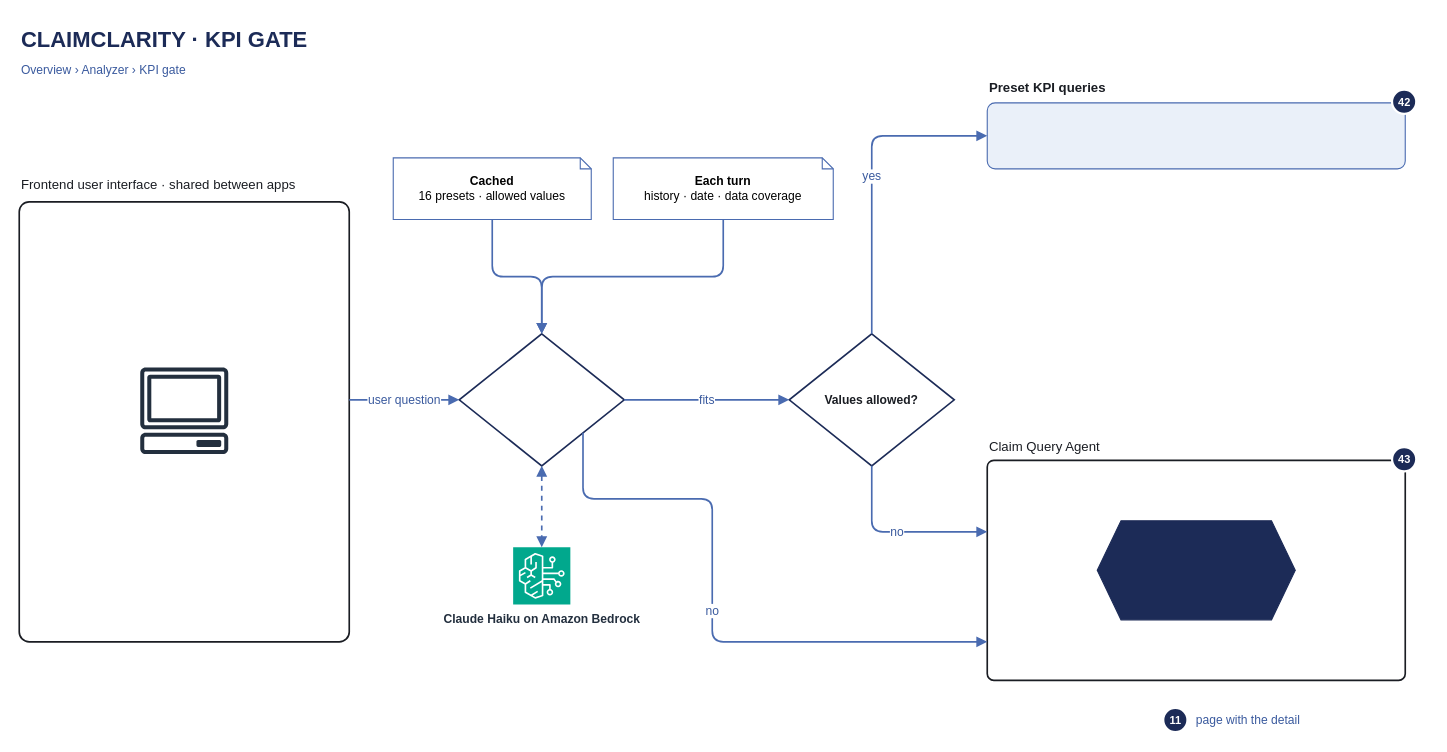
This 1447x752 diagram has some shape labels left out. The shapes that lost their labels are listed below. From the top down, each one's centre as x and y in pixels, then its label:
At point (1195, 135): "16 presets · fixed SQL".
At point (184, 410): "Chat app".
At point (541, 399): "KPI gate does a preset answer it?".
At point (1195, 570): "Claude Haiku Strands agent".
